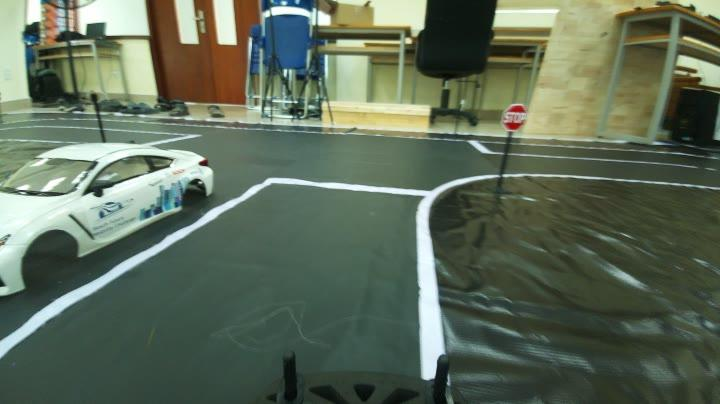car: (1, 144, 205, 282)
stop: (496, 98, 532, 136)
